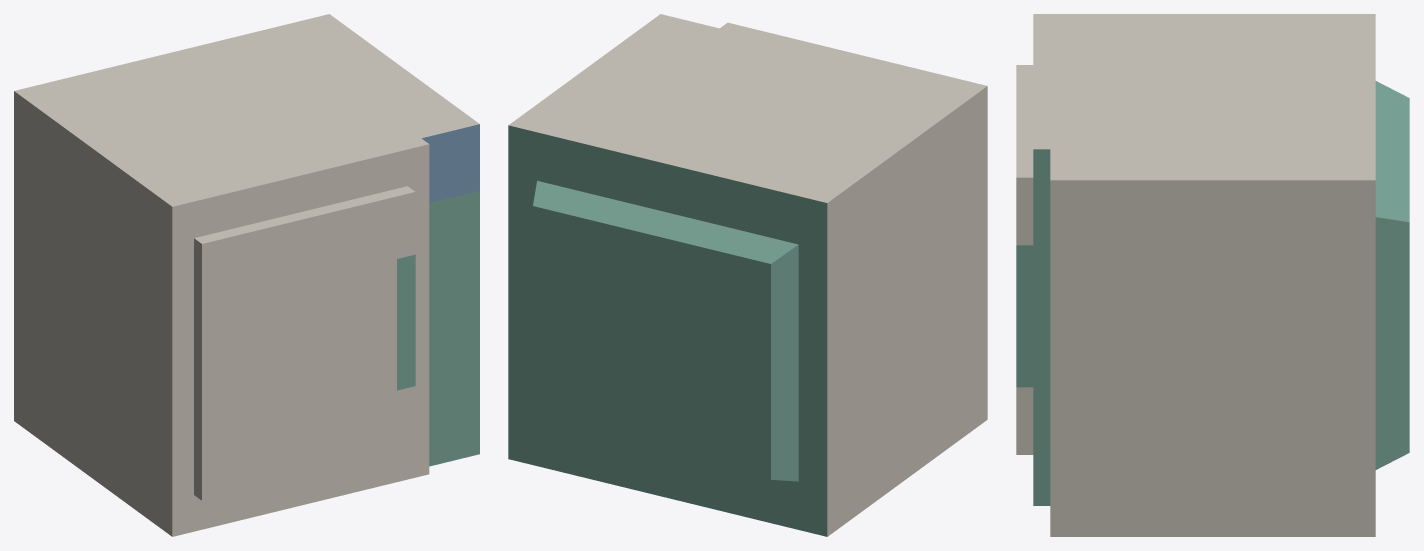
The model's file is kitchen-microwave.glb.
3 renders of one model, left to right at view 1: azimuth 30°, elevation 25°; view 2: azimuth 150°, elevation 25°; view 3: azimuth 270°, elevation 25°, orthographic. The views are drawn at different scales.
Bounding box in the file's own units: 1 × 1 × 1.
